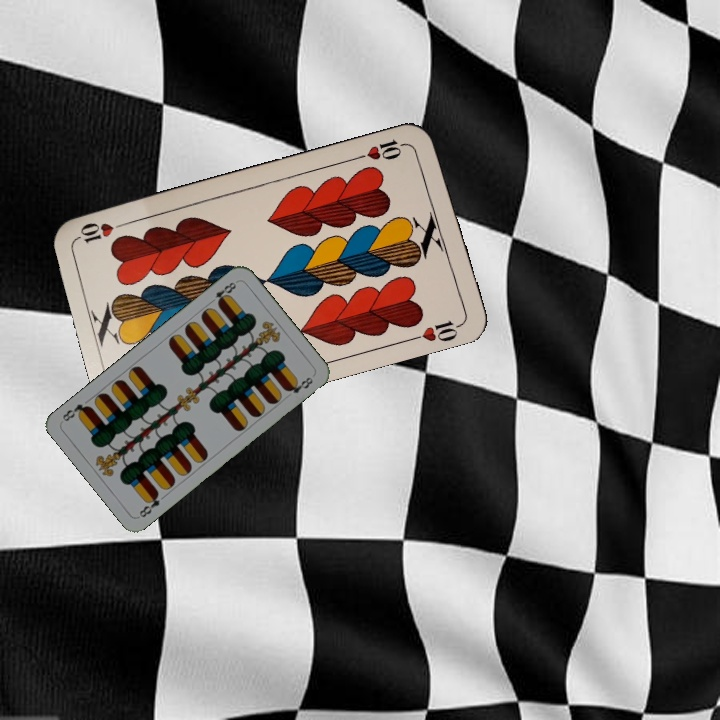E8: (205, 277, 240, 308), (135, 488, 163, 520)
H10: (354, 135, 412, 163)
